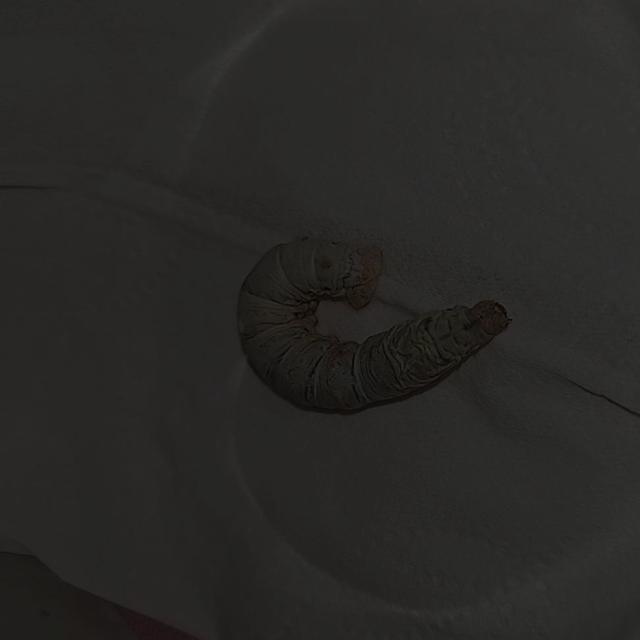Healthy: (218, 186, 529, 441)
